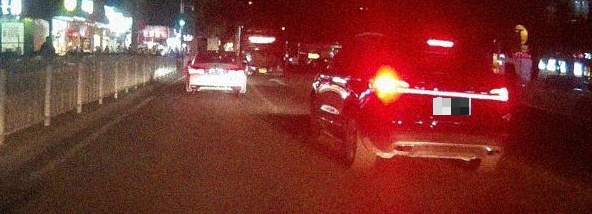L_light: (369, 77, 412, 95), (187, 66, 205, 74)
R_light: (487, 85, 510, 103), (230, 68, 245, 74)
T_light: (428, 39, 453, 47), (214, 53, 223, 56)
night-left: (363, 33, 513, 173)
night-no: (186, 49, 247, 96)
plate_1: (433, 98, 471, 115)
